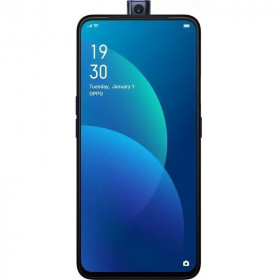Handphone: (76, 11, 204, 280)
